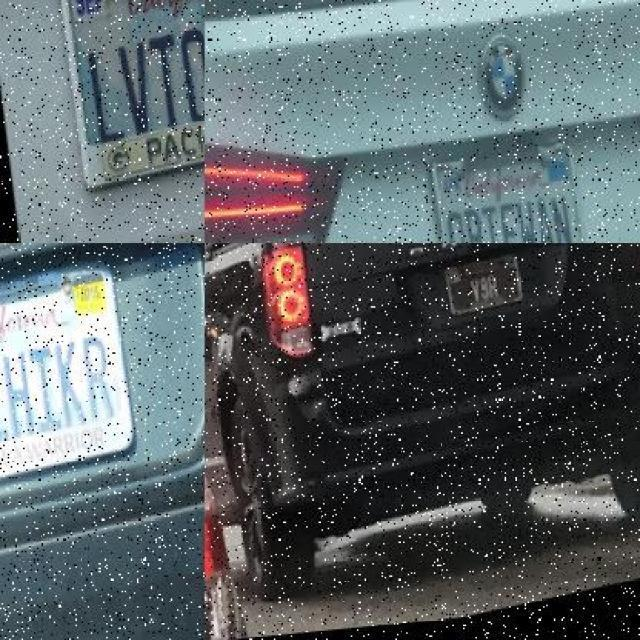LicensePlate: (0, 261, 138, 498), (52, 0, 204, 192), (428, 128, 589, 244), (442, 259, 521, 321)
